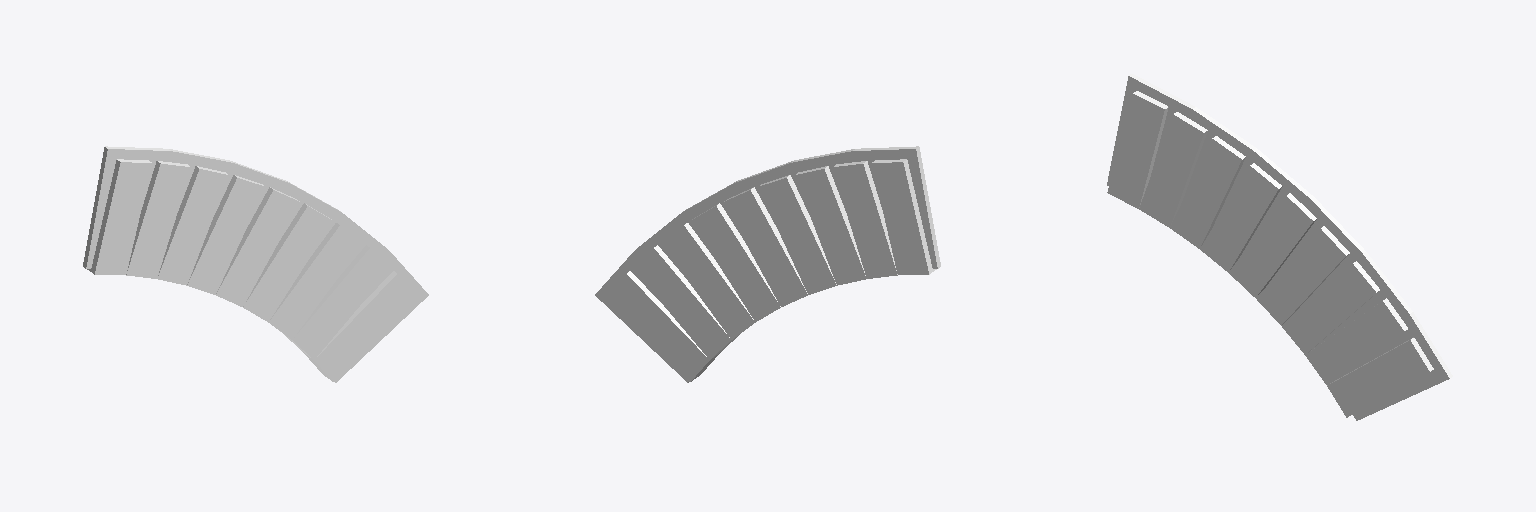
Rendered from lime_mortar_orange_clay_brick_facade_segmental_arch_3_right.obj.
3 renders of one model, left to right at view 1: azimuth 30°, elevation 25°; view 2: azimuth 150°, elevation 25°; view 3: azimuth 330°, elevation 25°, orthographic.
Visible parts, largest first — view 1: arch_3_right, arch_3_right_inner; view 2: arch_3_right, arch_3_right_inner; view 3: arch_3_right, arch_3_right_inner.
Boxes of the visible parts, <box> form: arch_3_right: <box>87,159,416,381</box>; arch_3_right_inner: <box>83,146,428,382</box>; arch_3_right: <box>607,159,936,381</box>; arch_3_right_inner: <box>595,146,940,382</box>; arch_3_right: <box>1107,91,1433,417</box>; arch_3_right_inner: <box>1107,74,1452,420</box>.
Bounding box in the file's own units: 1.64 × 1.32 × 0.0938.